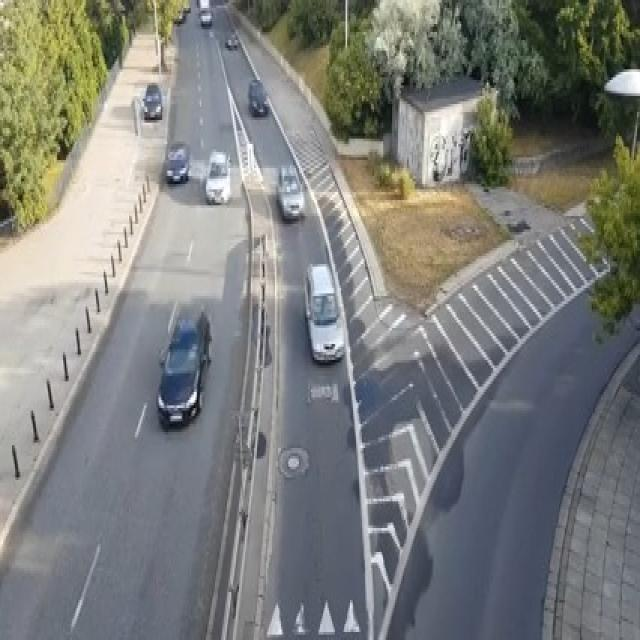car: (155, 306, 210, 426), (302, 261, 346, 363), (276, 162, 304, 218), (204, 149, 230, 203), (166, 139, 190, 181), (248, 77, 269, 115), (141, 83, 162, 120), (198, 8, 212, 27), (225, 32, 238, 48), (173, 8, 185, 24), (183, 3, 191, 13)
